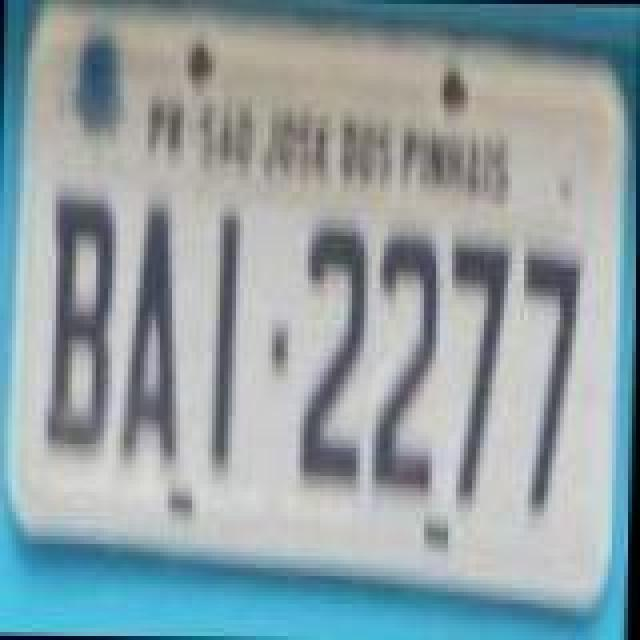1: (212, 208, 244, 476)
2: (372, 230, 444, 494), (300, 222, 372, 482)
7: (514, 244, 586, 516), (444, 238, 516, 502)
A: (118, 200, 186, 476)
B: (48, 190, 120, 450)
